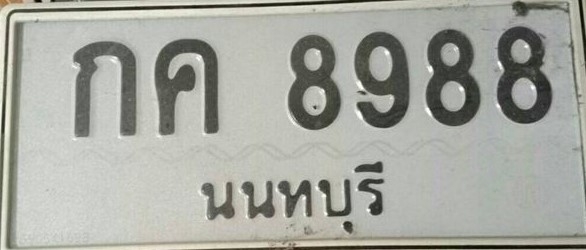txt01: (70, 39, 140, 140)
txt03: (151, 36, 221, 136)
